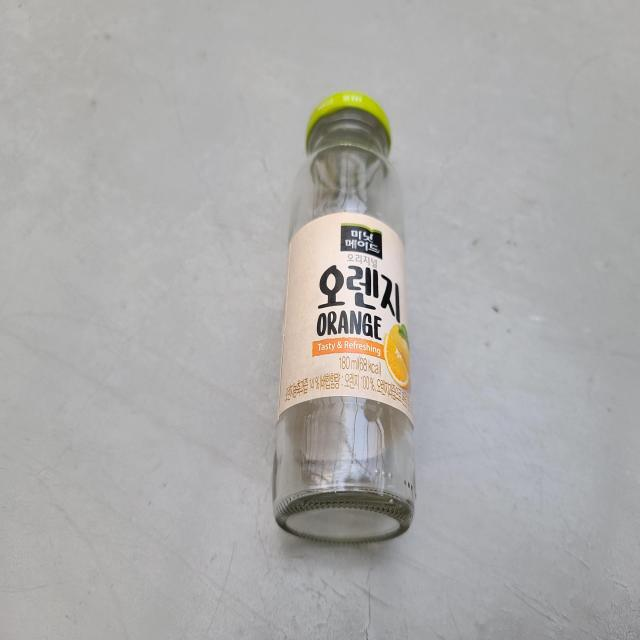glass: (274, 93, 415, 542)
